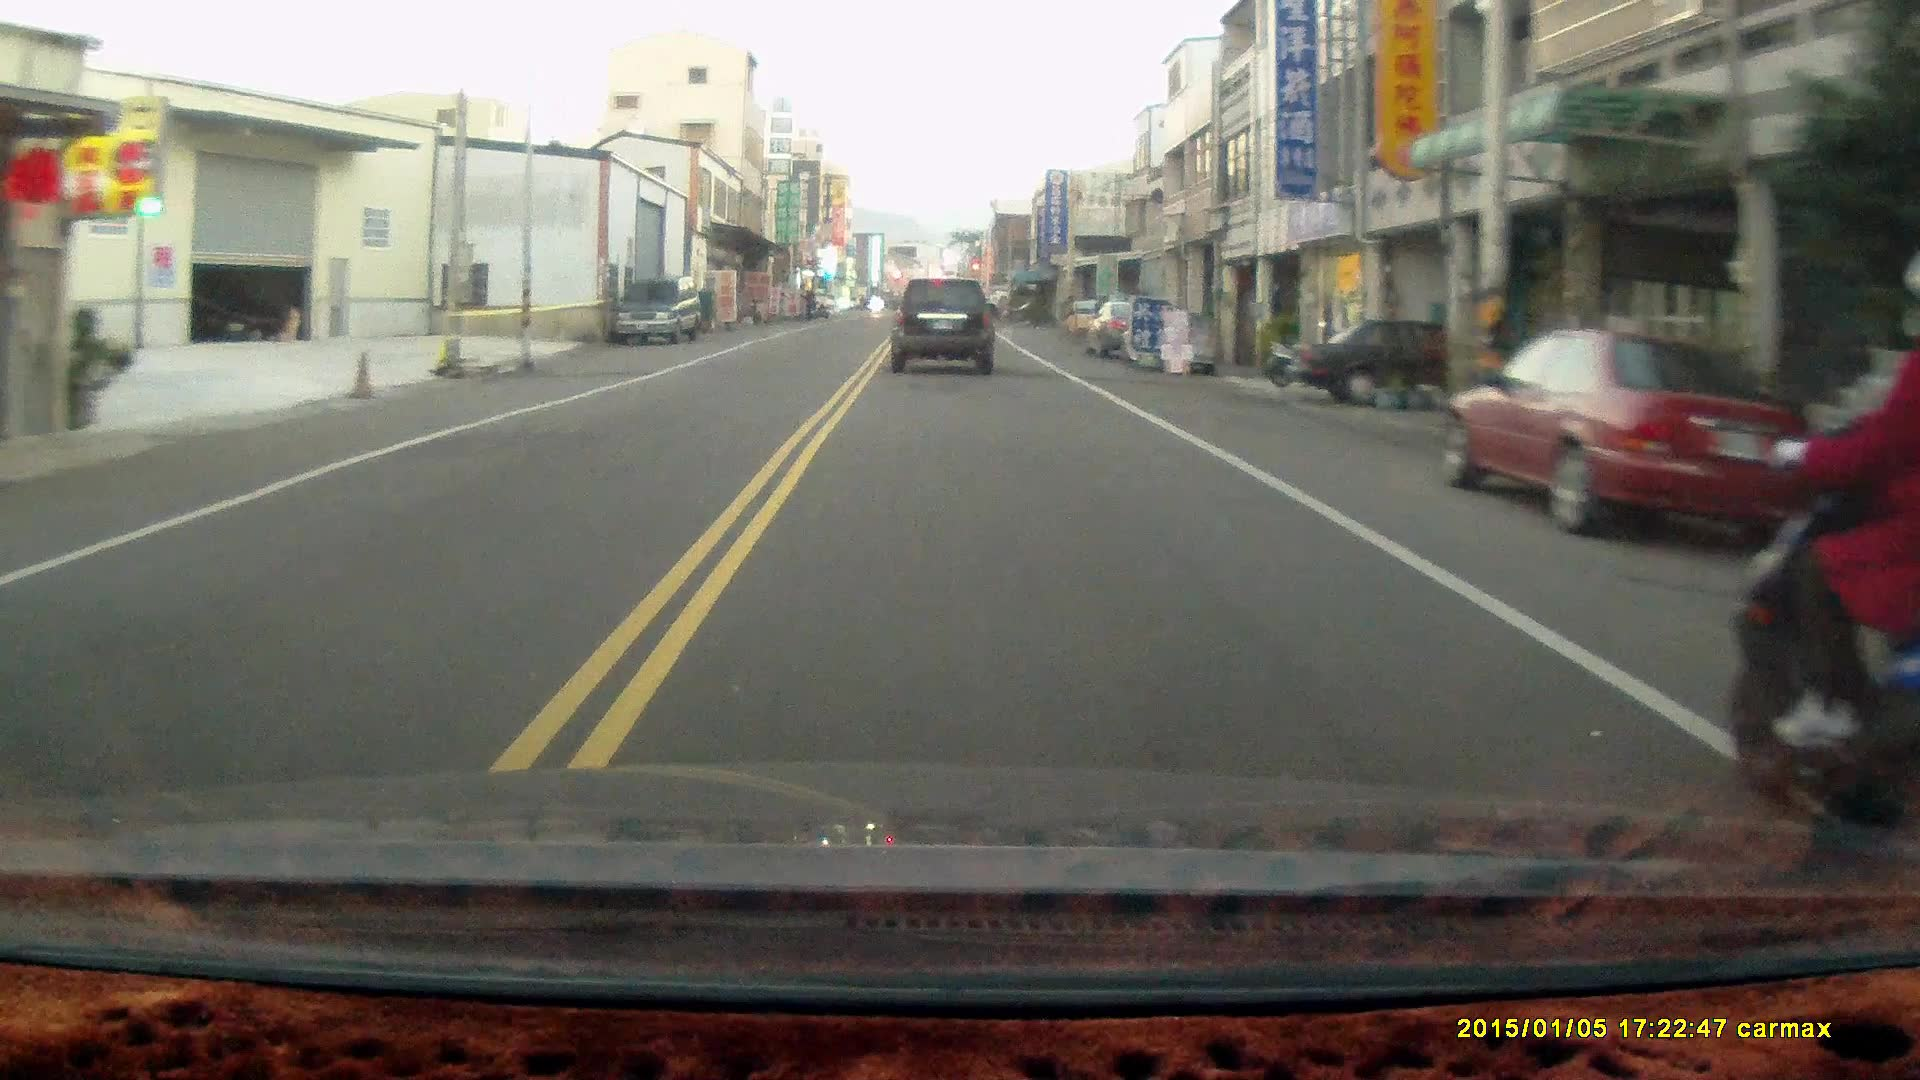rider: (1729, 287, 1913, 837)
vehicle: (1441, 327, 1828, 548), (1270, 309, 1535, 396), (890, 276, 1000, 378), (608, 277, 707, 350)
